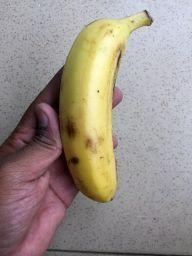banana: (56, 7, 157, 207)
